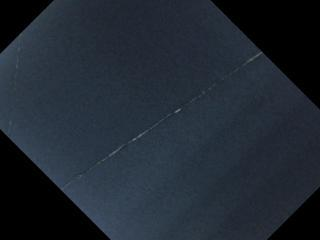crack: (58, 51, 266, 190), (1, 38, 29, 136)
